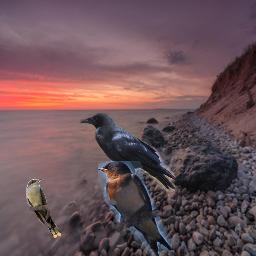Crow: (79, 111, 175, 192)
Cuckoo: (26, 179, 61, 238)
Swallow: (98, 161, 172, 256)
